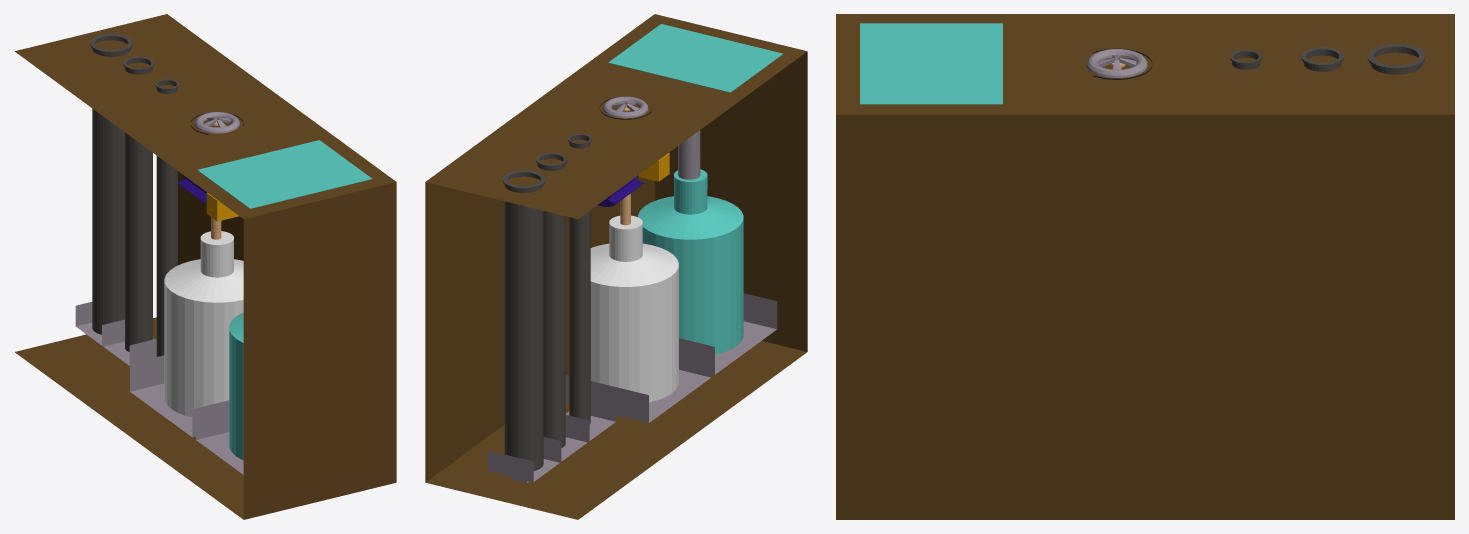
Rendered from CajaEcoSinTapas.glb.
The picture shows the model from 3 angles, left to right: view 1: azimuth 30°, elevation 25°; view 2: azimuth 150°, elevation 25°; view 3: azimuth 270°, elevation 25°; orthographic projection. The views are drawn at different scales.
Visible parts, largest first — view 1: caja, Cylinder.004, Cylinder, Cube, Cylinder.001, Cylinder.002, Cube.004, Cylinder.005, Cube.005, Cube.002, Torus, Cube.001 (+2 smaller); view 2: caja, Cylinder.004, Cylinder.005, Cylinder, Cube, Cylinder.001, Cylinder.002, Cube.004, Cube.005, Cube.001, Cube.003, Cylinder.009 (+4 smaller); view 3: caja, Cube, Torus, Cylinder, Cylinder.001.
Part boxes in pixels (bbox=[...]): caja: bbox=[15, 14, 396, 519]; Cylinder.004: bbox=[164, 231, 243, 417]; Cylinder: bbox=[90, 34, 132, 334]; Cube: bbox=[197, 140, 371, 208]; Cylinder.001: bbox=[123, 56, 154, 351]; Cylinder.002: bbox=[155, 79, 179, 356]; Cube.004: bbox=[130, 355, 229, 437]; Cylinder.005: bbox=[229, 312, 243, 460]; Cube.005: bbox=[196, 404, 243, 474]; Cube.002: bbox=[103, 321, 156, 365]; Torus: bbox=[194, 112, 239, 133]; Cube.001: bbox=[75, 302, 124, 345]; caja: bbox=[425, 14, 807, 519]; Cylinder.004: bbox=[590, 215, 678, 402]; Cylinder.005: bbox=[638, 169, 743, 354]; Cylinder: bbox=[502, 170, 545, 470]; Cube: bbox=[608, 24, 782, 92]; Cylinder.001: bbox=[536, 152, 567, 447]; Cylinder.002: bbox=[568, 133, 591, 424]; Cube.004: bbox=[565, 342, 711, 422]; Cube.005: bbox=[679, 293, 777, 374]; Cube.001: bbox=[487, 438, 559, 483]; Cube.003: bbox=[565, 395, 615, 440]; Cylinder.009: bbox=[678, 130, 700, 179]; caja: bbox=[836, 14, 1454, 519]; Cube: bbox=[860, 23, 1002, 104]; Torus: bbox=[1086, 49, 1147, 77]; Cylinder: bbox=[1367, 43, 1425, 74]; Cylinder.001: bbox=[1301, 47, 1343, 71].
Size of the model in its own units: 0.5 by 0.9579 by 1.3.
